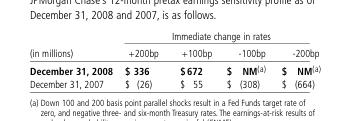table: (28, 29, 320, 89)
table column: (28, 29, 118, 89), (218, 29, 272, 89), (118, 29, 168, 89), (168, 29, 218, 89), (272, 29, 320, 89)
table column header: (28, 29, 320, 77)
table row: (28, 43, 320, 77), (28, 29, 320, 43), (28, 77, 320, 89)
table spanning cell: (28, 29, 118, 77), (118, 29, 320, 43)
